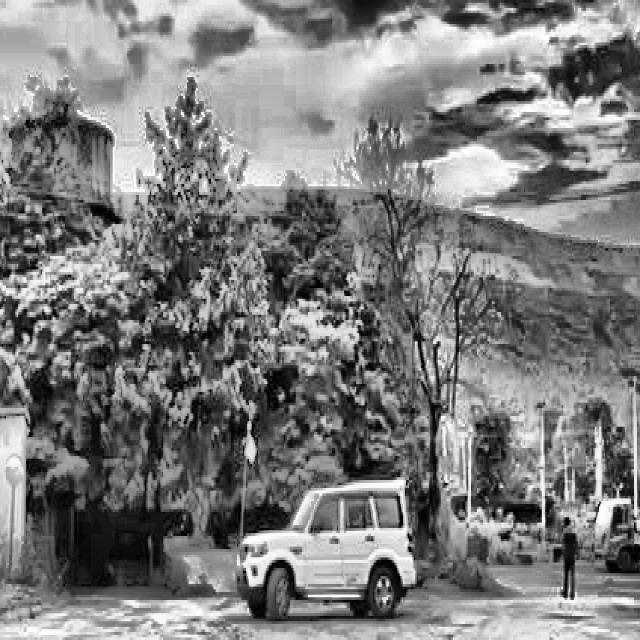light_vehicle: (236, 476, 417, 618)
